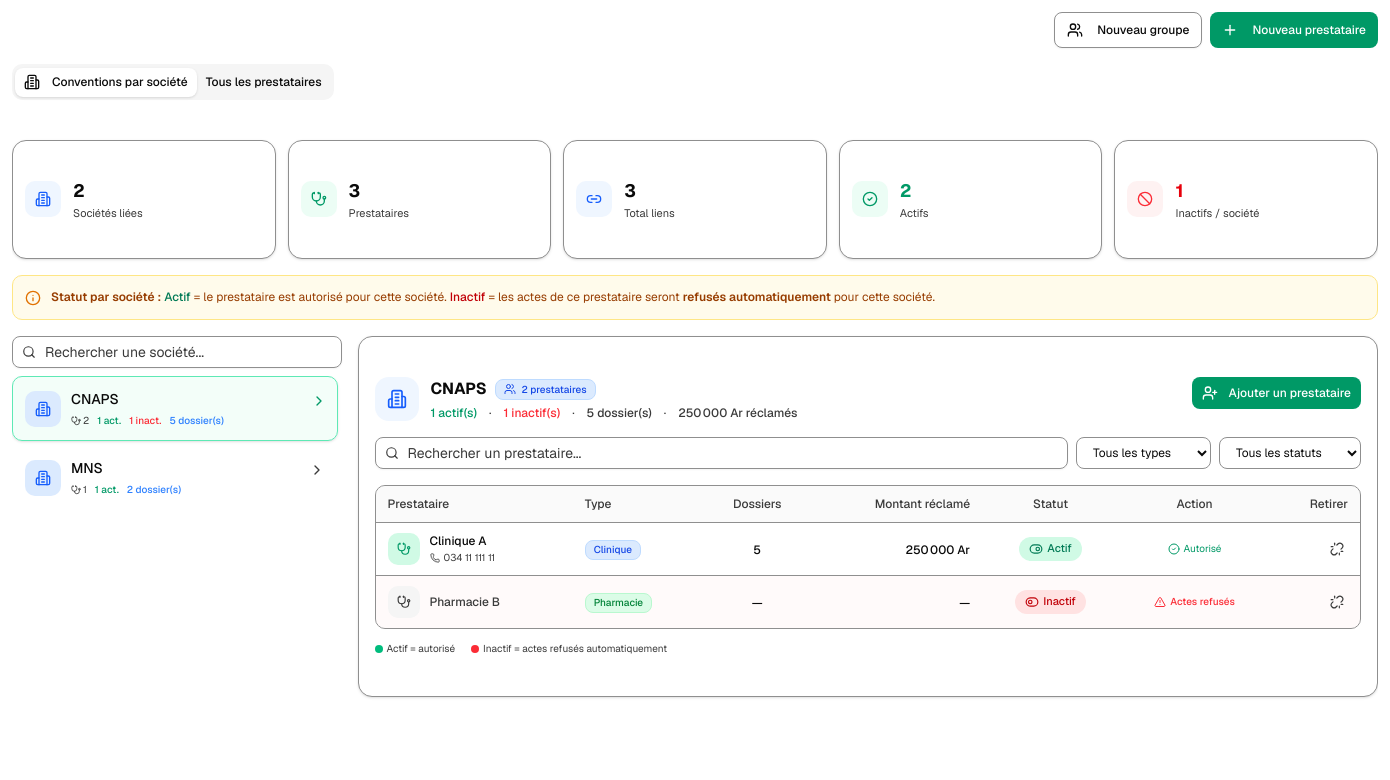
PrestatairesView — annuaire, fiche détaillée et modification › affiche la liste centralisée de tous les prestataires avec statut et rattachements
The image size is (1390, 780).
Click the tab "Tous les prestataires" at [264, 82], box [197,68,331,96]
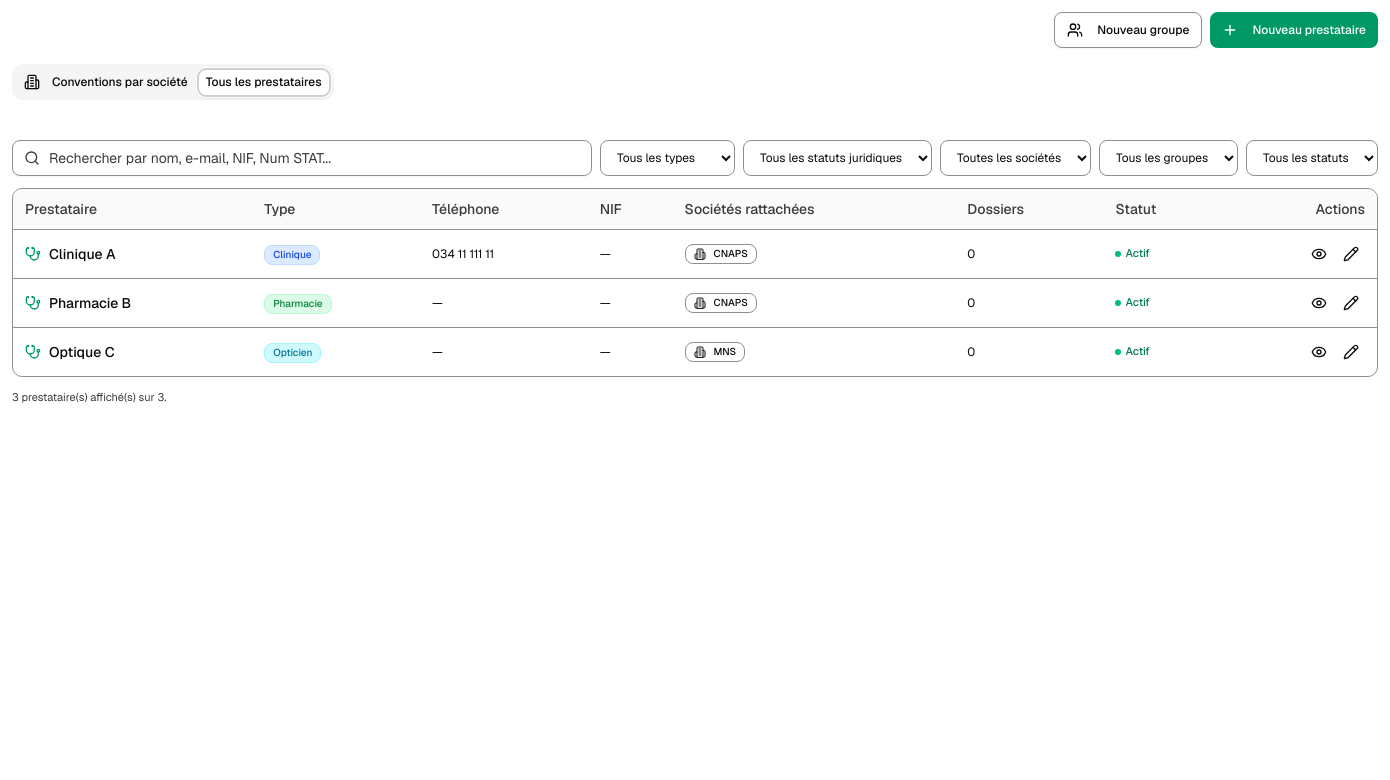
Expected: the text "Clinique A" is shown, [49,244,116,264]
Result: the text "Optique C" is shown at [49,342,115,362]
